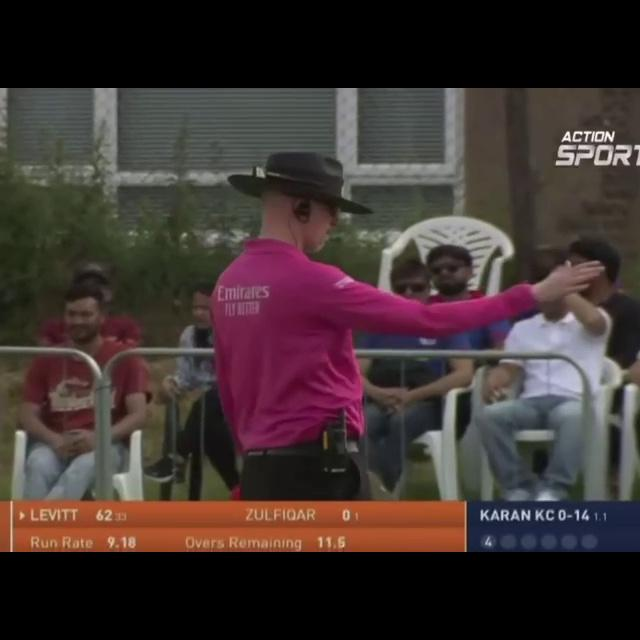umpire: (146, 128, 609, 496)
